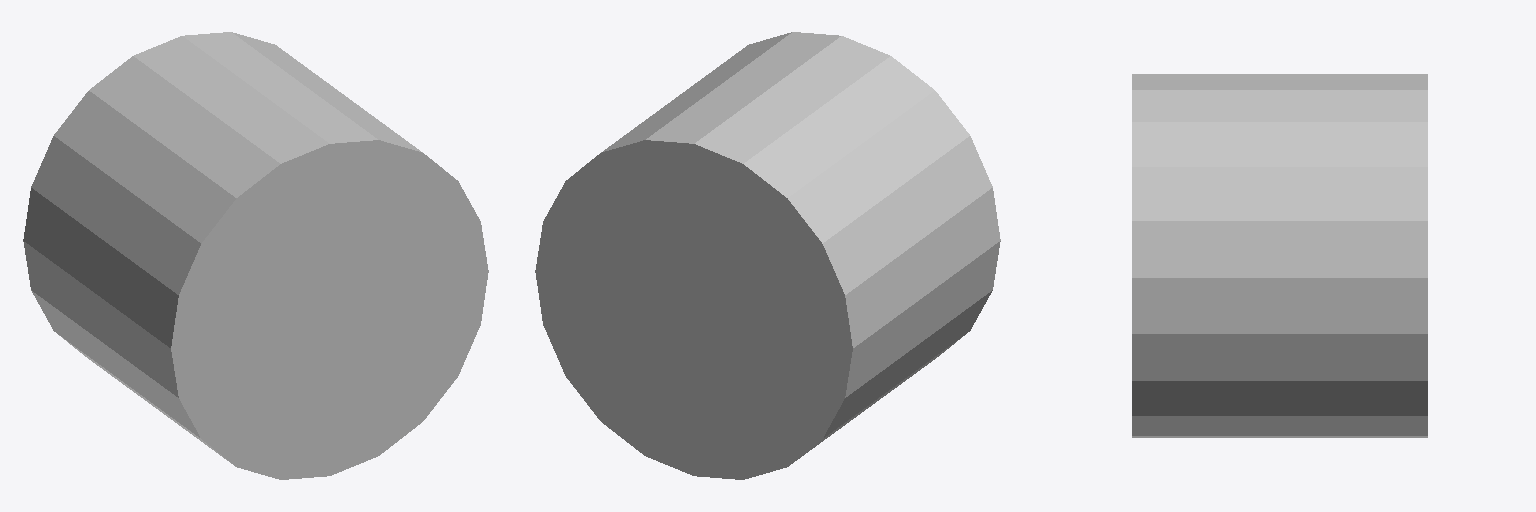
File: Resaltado_Nervio_occipital_mayor_D.obj
The picture shows the model from 3 angles: view 1: azimuth 30°, elevation 25°; view 2: azimuth 150°, elevation 25°; view 3: azimuth 270°, elevation 25°; orthographic projection.
Visible parts, largest first — view 1: polySurface42 polySurface23 Marcadores1; view 2: polySurface42 polySurface23 Marcadores1; view 3: polySurface42 polySurface23 Marcadores1.
Part boxes in pixels (bbox=[...]): polySurface42 polySurface23 Marcadores1: bbox=[23, 32, 488, 479]; polySurface42 polySurface23 Marcadores1: bbox=[535, 32, 1000, 479]; polySurface42 polySurface23 Marcadores1: bbox=[1132, 74, 1427, 437].
Size of the model in its own units: 0.0375 by 0.0375 by 0.0302.